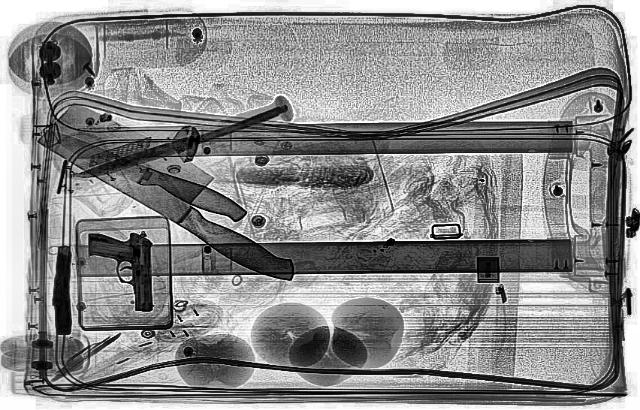Gun: (83, 229, 159, 313), (47, 246, 75, 334)
Knife: (20, 96, 340, 288), (30, 119, 254, 225), (70, 102, 294, 184)
